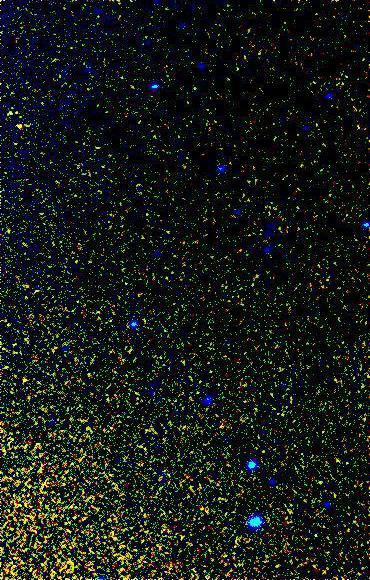star: (4, 116, 34, 146)
